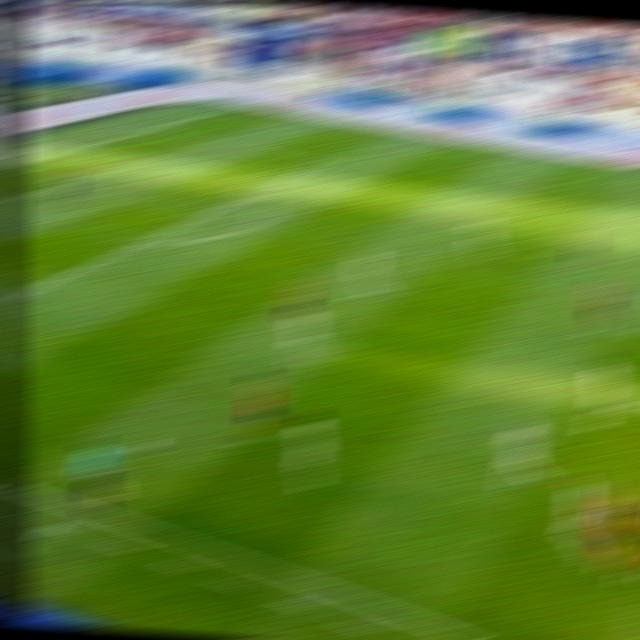bigarea_bottom_inner: (2, 288, 22, 314)
bigarea_top_inner: (303, 154, 334, 171)
bigarea_top_outter: (131, 121, 168, 139)
bottom_arc_area_intersection: (132, 230, 163, 249)
corner: (204, 104, 241, 117)
smallarea_top_inner: (109, 154, 148, 173)
smallarea_top_outter: (57, 142, 91, 159)
top_arc_area_intersection: (235, 182, 273, 204)
